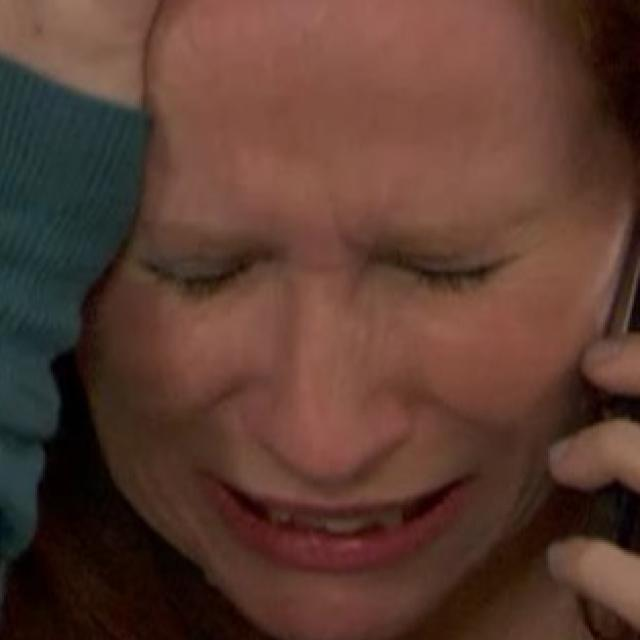Depress: (74, 0, 637, 634)
